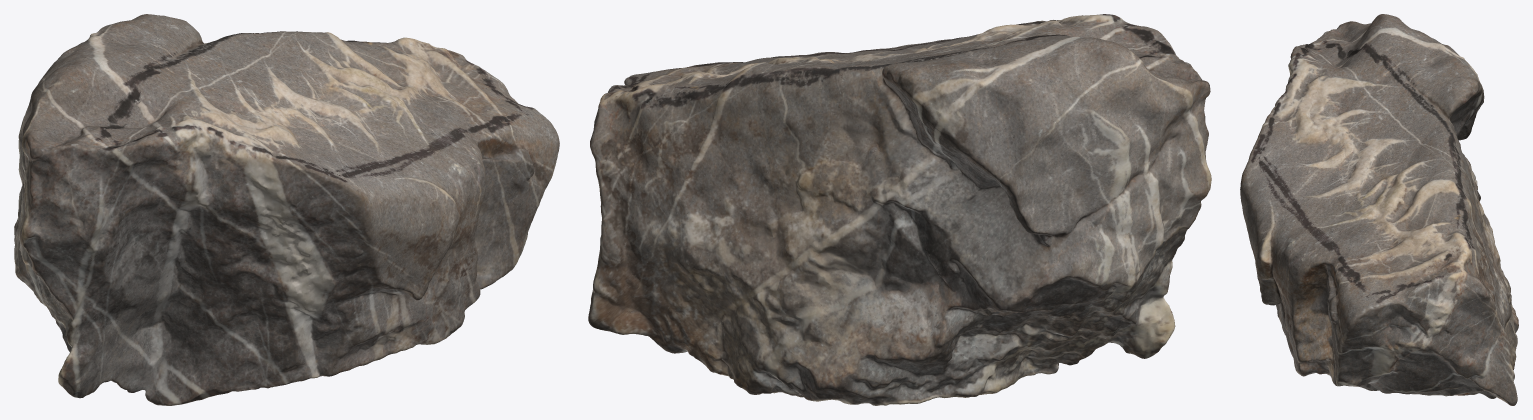
The model's file is main.glb.
3 renders of one model, left to right at view 1: azimuth 30°, elevation 25°; view 2: azimuth 150°, elevation 25°; view 3: azimuth 270°, elevation 25°, orthographic. The views are drawn at different scales.
Parts seen in each view (by area): view 1: input; view 2: input; view 3: input.
Boxes of the visible parts, x1,y1,x2,y2 form: input: (14,14,559,405); input: (588,14,1211,405); input: (1240,14,1518,405).
Size of the model in its own units: 0.1042 by 0.0631 by 0.0602.
Materials: 1 (1 with a texture image).
